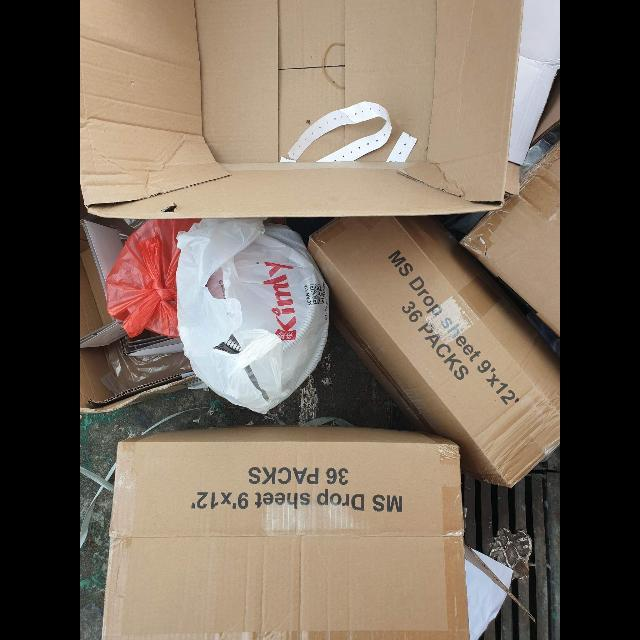paper: (80, 0, 525, 220), (102, 427, 471, 640), (307, 216, 560, 489), (460, 140, 560, 339), (80, 330, 197, 412), (80, 219, 126, 349)
plastic: (174, 218, 330, 417), (106, 218, 202, 338)
